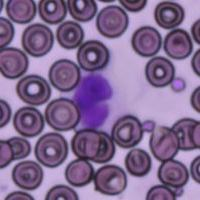M: (70, 68, 130, 132)
